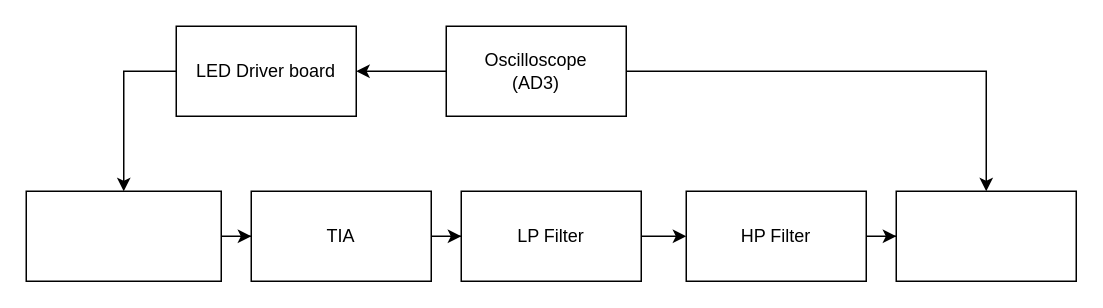
Image size: 1103x308. Some labels were removed from this diagram. The centre of each missing label's shape, as x and y in pixels:
"Gain" goes at (x=985, y=235).
"PD/LED Enclosure (Finger measurement)" goes at (x=123, y=235).
